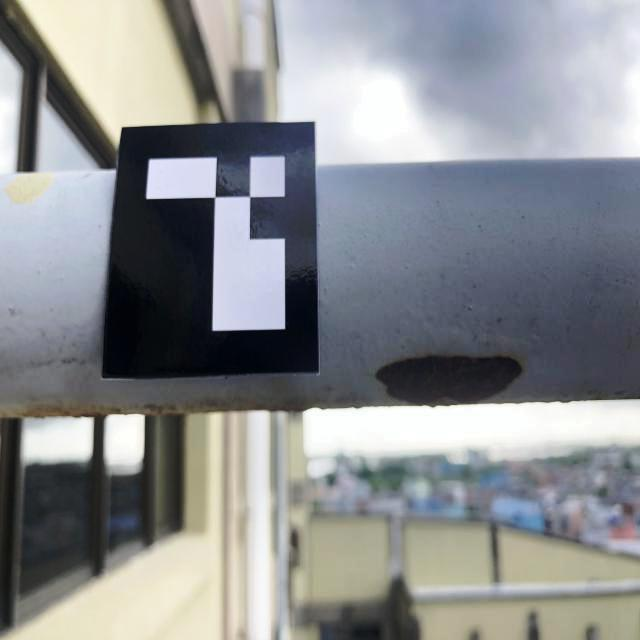Corrosion: (376, 355, 523, 405)
